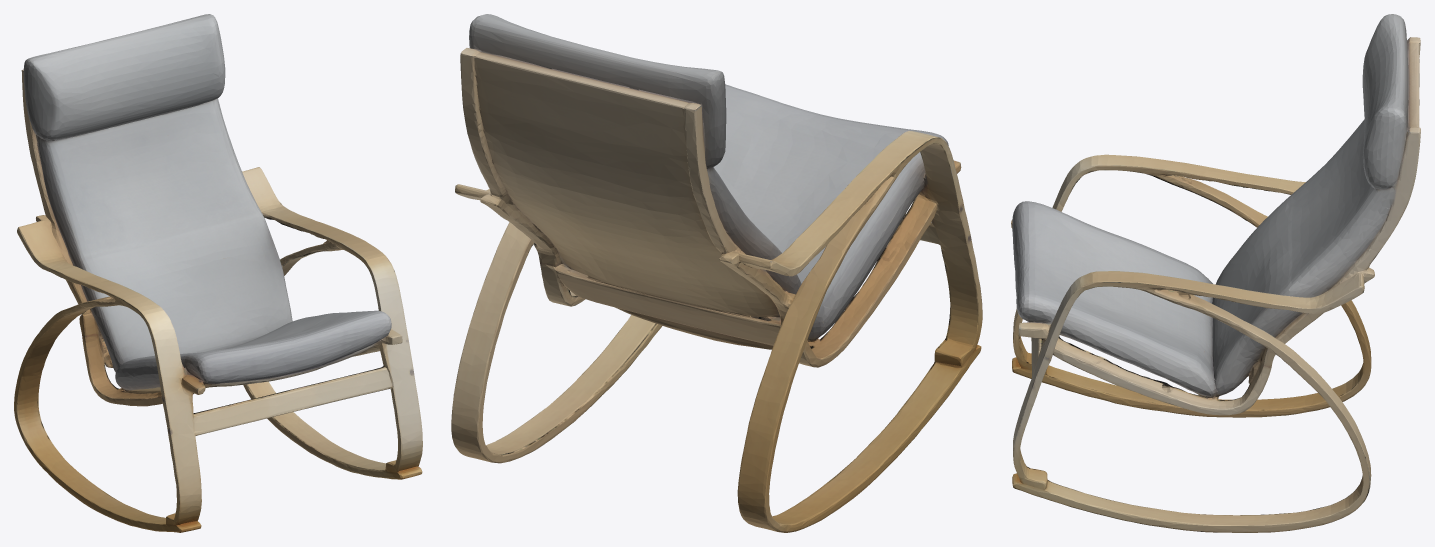
3 views of the same model, side by side, from view 1: azimuth 30°, elevation 25°; view 2: azimuth 150°, elevation 25°; view 3: azimuth 270°, elevation 25° (orthographic). The views are drawn at different scales.
Visible parts, largest first — view 1: world; view 2: world; view 3: world.
Boxes of the visible parts, x1=… form: world: x1=14, y1=14, x2=422, y2=532; world: x1=451, y1=14, x2=982, y2=532; world: x1=1011, y1=14, x2=1420, y2=532.
Size of the model in its own units: 0.6716 by 0.9982 by 0.9109.
1 material, 1 textured.
